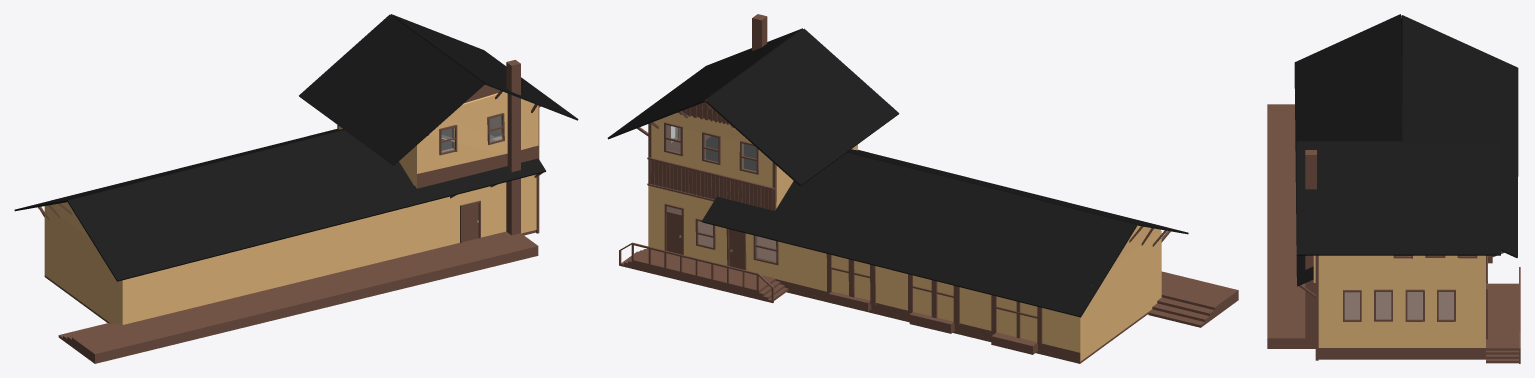
Rendered from Hotel Building.glb.
3 views of the same model, side by side, from view 1: azimuth 30°, elevation 25°; view 2: azimuth 150°, elevation 25°; view 3: azimuth 270°, elevation 25° (orthographic). The views are drawn at different scales.
Parts seen in each view (by area): view 1: group860354314, group1860368108, group52442560, group355110502, group787487953, group1774303457, group393763868, group1024880651, group345262557; view 2: group345262557, group1774303457, group355110502, group787487953, group393763868, group142822231, group52442560, group860354314, group39998031, group441527044, group124677262, group635372485 (+3 smaller); view 3: group393763868, group345262557, group1774303457, group860354314, group52442560, group787487953, group142822231, group39998031, group1024880651, group1541695878.
Part boxes in pixels (x1,y1,x2,y2): group860354314: (67, 130, 545, 281); group1860368108: (121, 174, 536, 325); group52442560: (58, 231, 538, 363); group355110502: (299, 14, 484, 165); group787487953: (337, 85, 538, 188); group1774303457: (44, 202, 535, 325); group393763868: (391, 14, 578, 120); group1024880651: (506, 60, 520, 235); group345262557: (14, 129, 343, 211); group345262557: (701, 152, 1136, 317); group1774303457: (648, 185, 1160, 361); group355110502: (705, 28, 899, 186); group787487953: (648, 102, 857, 210); group393763868: (607, 28, 803, 139); group142822231: (620, 248, 788, 302); group52442560: (1148, 271, 1238, 327); group860354314: (847, 149, 1188, 234); group39998031: (698, 221, 1151, 363); group441527044: (633, 243, 773, 287); group124677262: (991, 332, 1037, 354); group635372485: (909, 312, 954, 333); group393763868: (1296, 141, 1500, 255); group345262557: (1401, 15, 1518, 257); group1774303457: (1318, 283, 1485, 357); group860354314: (1294, 14, 1402, 286); group52442560: (1267, 104, 1315, 348); group787487953: (1313, 255, 1486, 282); group142822231: (1486, 283, 1518, 363); group39998031: (1318, 292, 1485, 359); group1024880651: (1305, 150, 1316, 338); group1541695878: (1315, 255, 1318, 360).
Size of the model in its own units: 6.95 by 2.39 by 2.84.
